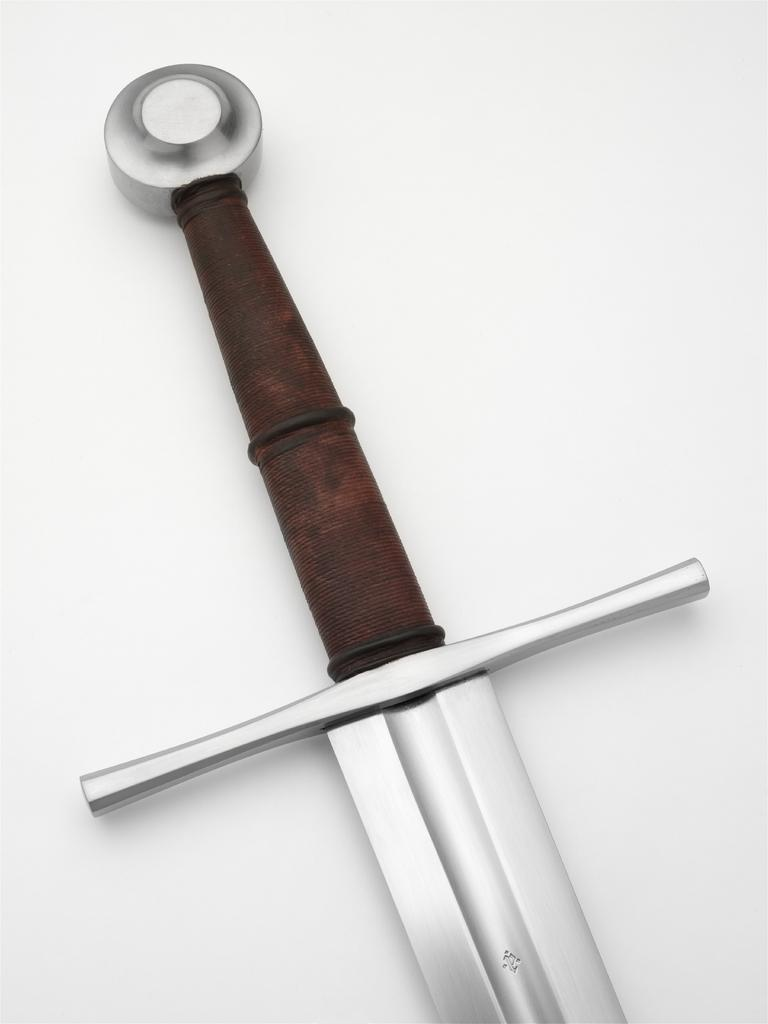Sword: (77, 61, 708, 1023)
